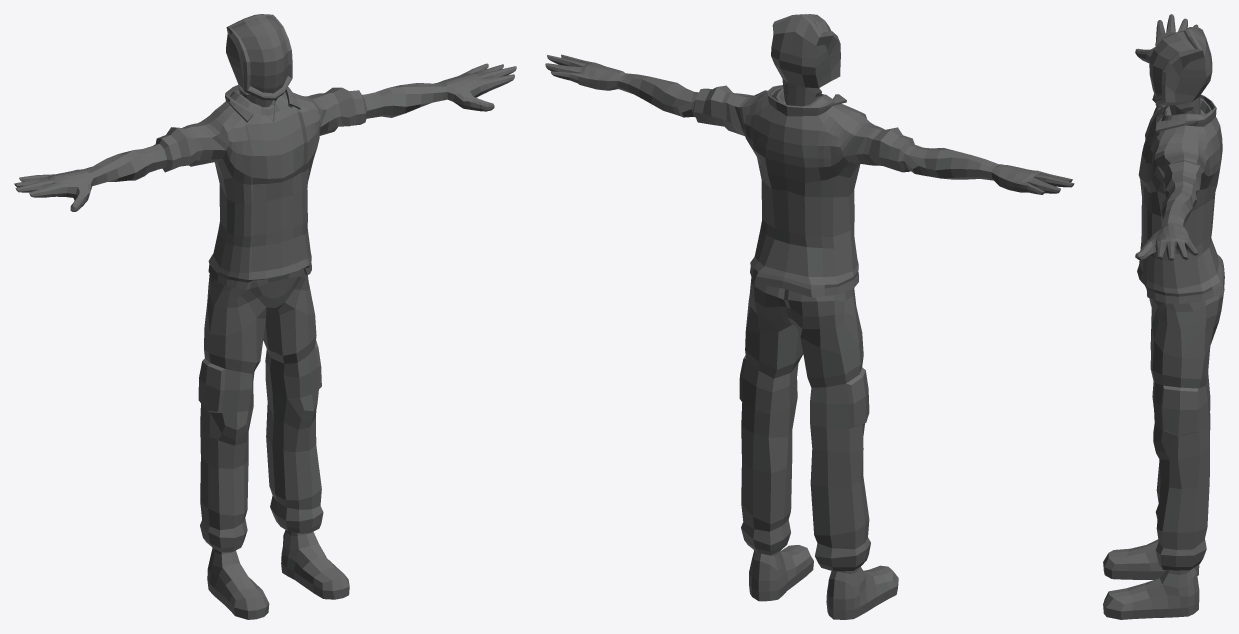
File: Cyberpunk character9.fbx
The picture shows the model from 3 angles, left to right: view 1: azimuth 30°, elevation 25°; view 2: azimuth 150°, elevation 25°; view 3: azimuth 270°, elevation 25°; orthographic projection. The views are drawn at different scales.
Parts seen in each view (by area): view 1: Cyberpunk_characters9; view 2: Cyberpunk_characters9; view 3: Cyberpunk_characters9.
Part boxes in pixels (x1,y1,x2,y2): Cyberpunk_characters9: (14,14,516,619); Cyberpunk_characters9: (545,14,1074,619); Cyberpunk_characters9: (1103,14,1224,619).
Bounding box in the file's own units: 168 × 180 × 35.31.
